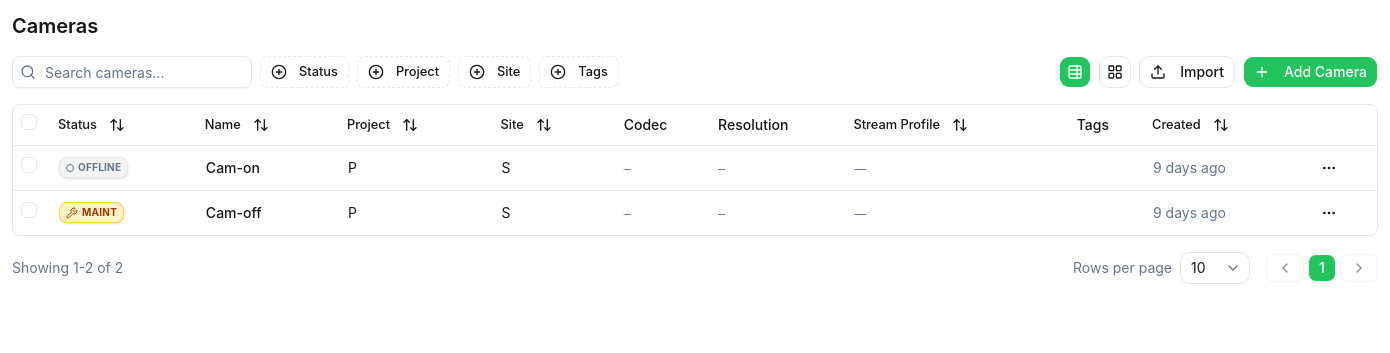
Test: TenantCamerasPage — mixed-state maintenance (D-03) › shows both Maintenance and Exit Maintenance buttons when mixed selection
Expected: the text "Cam-on" is shown, x1=206 y1=158 x2=260 y2=176
Expected: the text "Cam-off" is shown, x1=206 y1=204 x2=262 y2=220
Click the checkbox named "Select camera Cam-on". click: coordinates (29, 165)
box: x1=21 y1=157 x2=37 y2=173
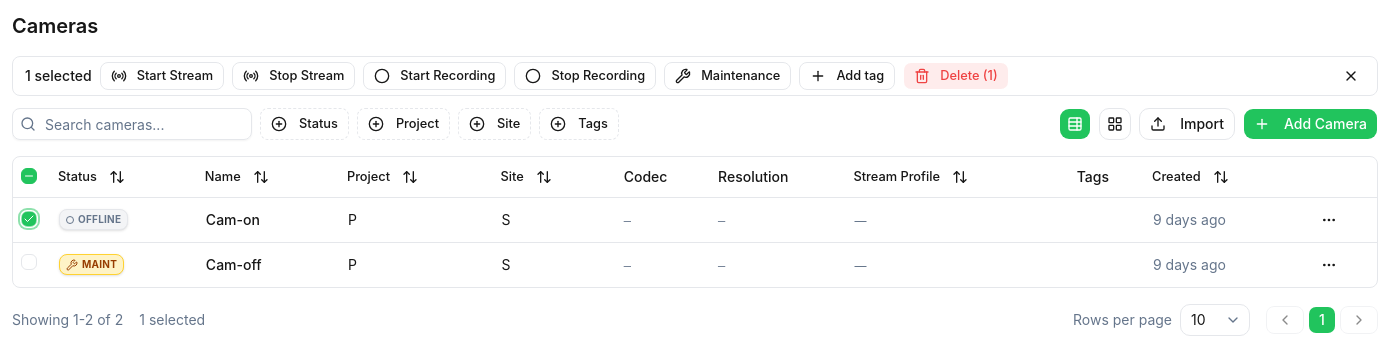
Click the checkbox named "Select camera Cam-off". click: coordinates (29, 262)
box: x1=21 y1=254 x2=37 y2=270
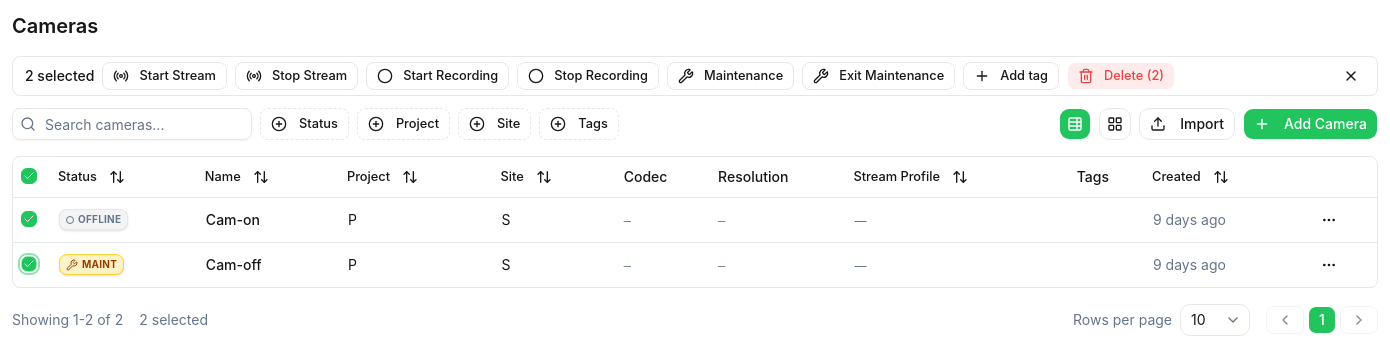
Expected: the button "Maintenance" is shown, x1=667 y1=62 x2=794 y2=90
Expected: the button "Exit Maintenance" is shown, x1=802 y1=62 x2=955 y2=90
